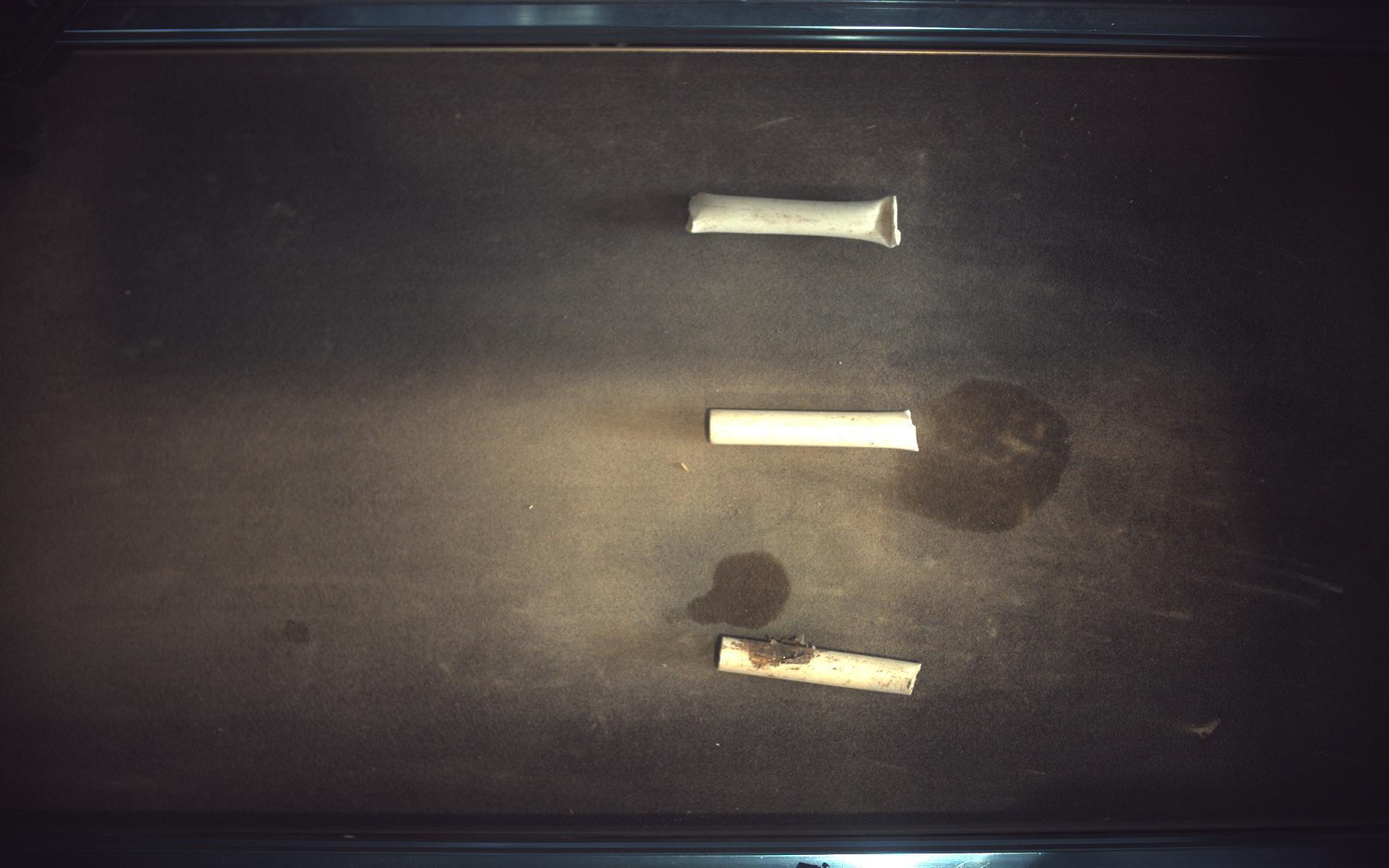pipes: (718, 636, 922, 697), (687, 192, 903, 247), (709, 409, 919, 451)
